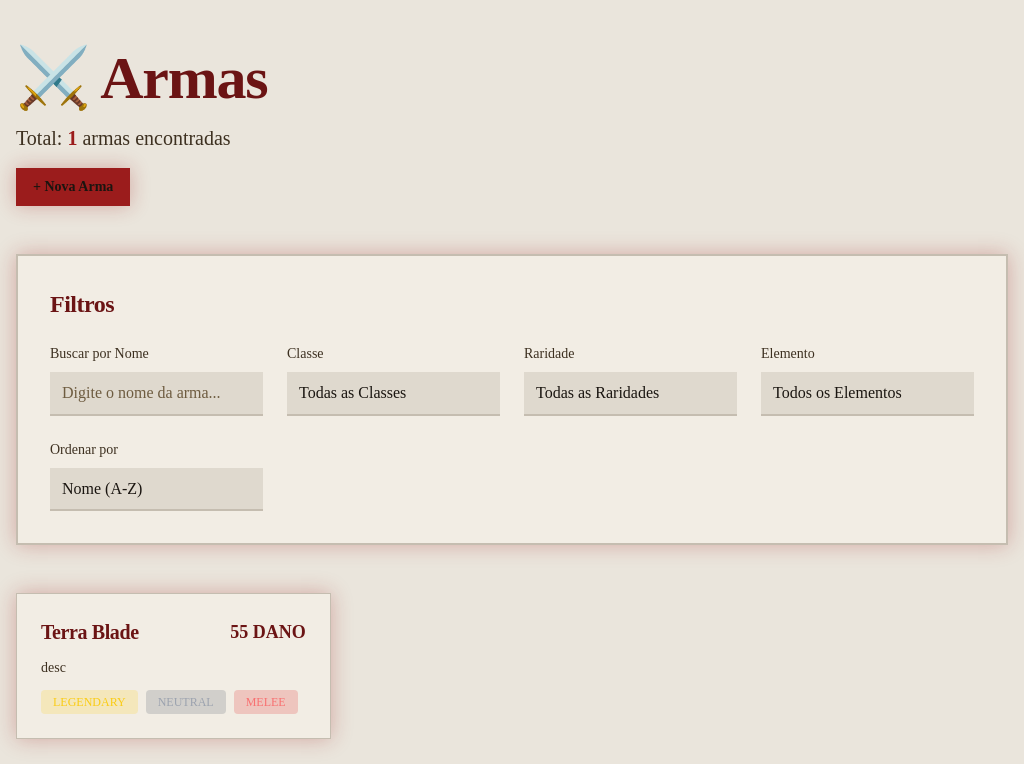
Test case: WeaponsPage › shows the "Nova Arma" button and opens the create drawer for admins
The width and height of the screenshot is (1024, 764).
Click the button "+ Nova Arma" at {"x": 73, "y": 187}, box x1=16 y1=168 x2=130 y2=206
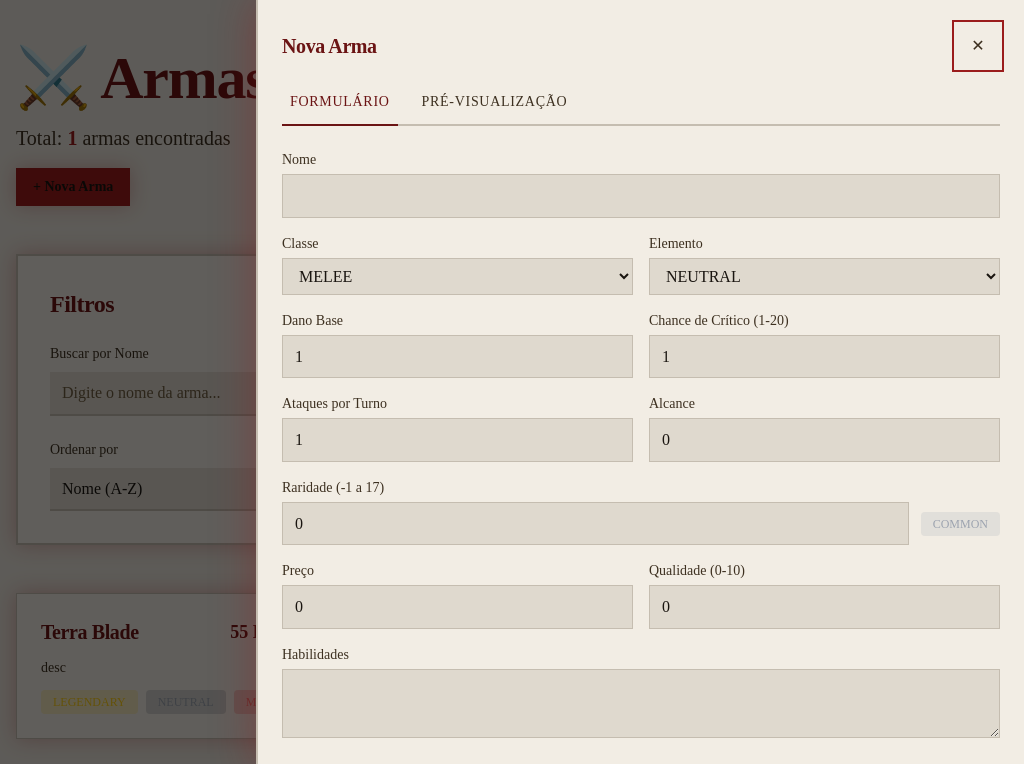
Expected: the field labelled "Nome" is shown, x1=282 y1=174 x2=1000 y2=218
